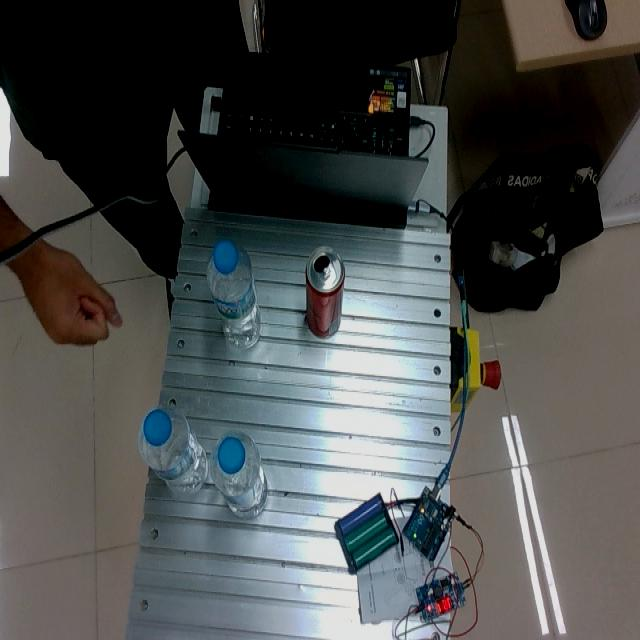coca: (305, 244, 346, 339)
lavie: (207, 240, 263, 351), (138, 407, 210, 493), (211, 430, 269, 518)
